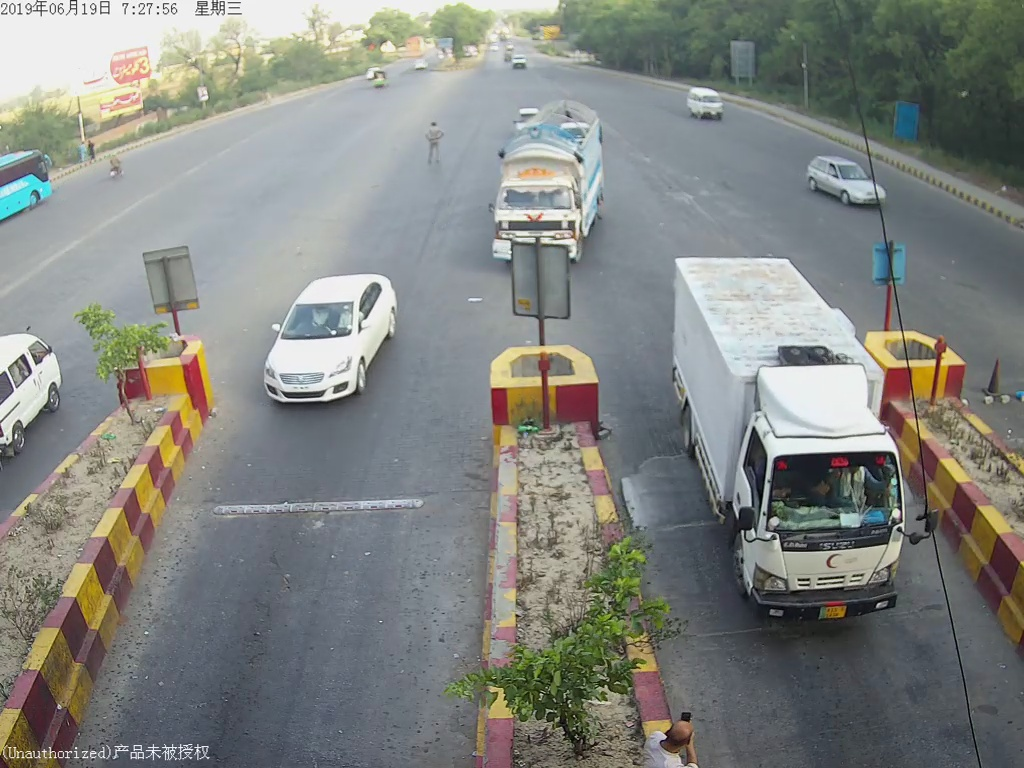Cat-1: (253, 259, 405, 417)
Cat-4: (674, 240, 922, 629), (490, 95, 615, 233)
